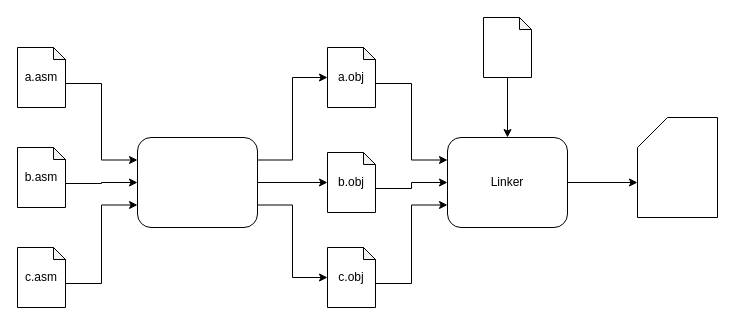
The diagram is 735 pixels wide and 325 high, and some of its shapes have lost their labels. Each missing label, with the centre of its shape:
"Assembler" goes at [197,182].
"final.rom" goes at [677,167].
"linker script" goes at [507,47].
